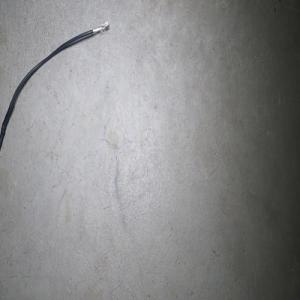Wire: (0, 19, 109, 152)
